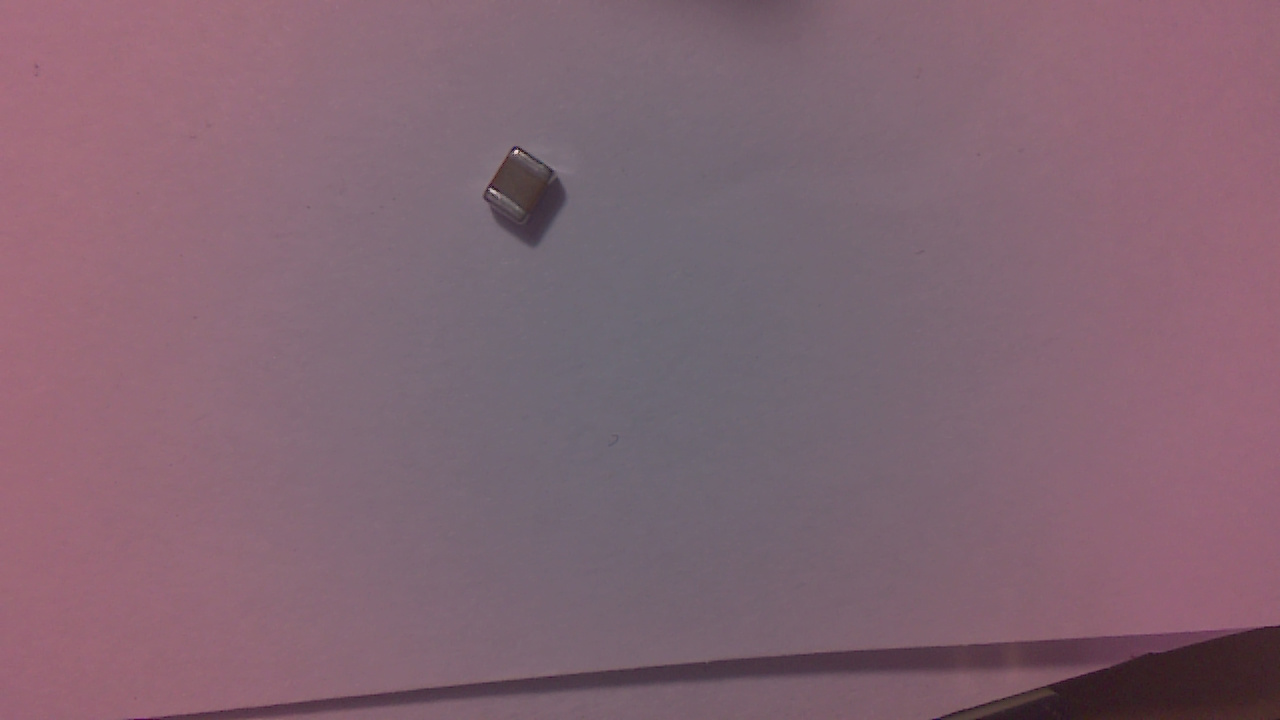Condensator: (488, 151, 570, 231)
